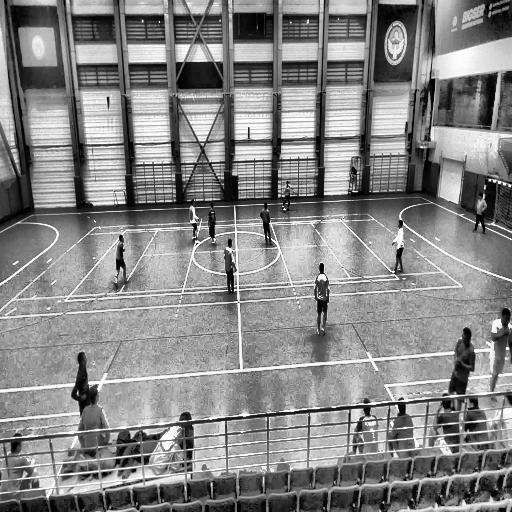ball: (282, 206, 288, 215)
player: (449, 327, 476, 412), (487, 307, 512, 395), (312, 261, 329, 339), (72, 352, 88, 412), (224, 238, 238, 296), (390, 218, 404, 275), (114, 232, 128, 288), (472, 192, 487, 233), (188, 198, 201, 242), (260, 202, 273, 244), (206, 202, 218, 243), (280, 178, 291, 210)
